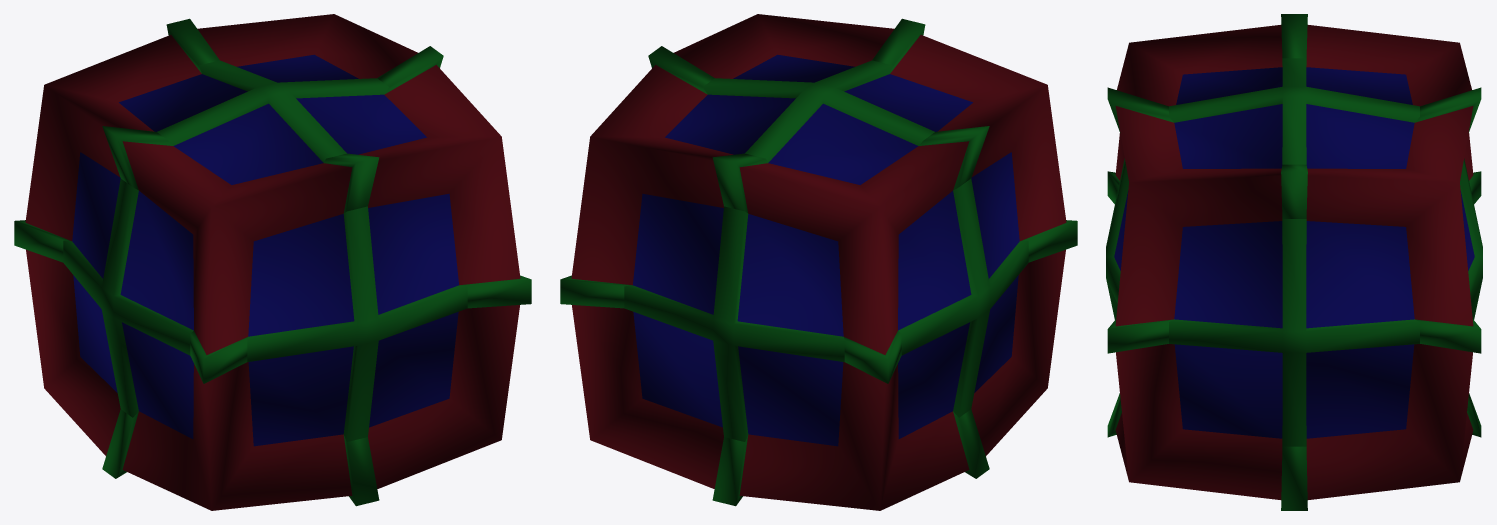
The model's file is PowerCore.fbx.
The picture shows the model from 3 angles, left to right: view 1: azimuth 30°, elevation 25°; view 2: azimuth 150°, elevation 25°; view 3: azimuth 270°, elevation 25°; orthographic projection.
Parts seen in each view (by area): view 1: PowerCore_LOD0; view 2: PowerCore_LOD0; view 3: PowerCore_LOD0.
Boxes of the visible parts, x1,y1,x2,y2 form: PowerCore_LOD0: (14,14,531,510); PowerCore_LOD0: (560,14,1077,510); PowerCore_LOD0: (1106,14,1482,510).
Size of what is drawn, in the model's own units: 0.2848 by 0.2848 by 0.2848.
